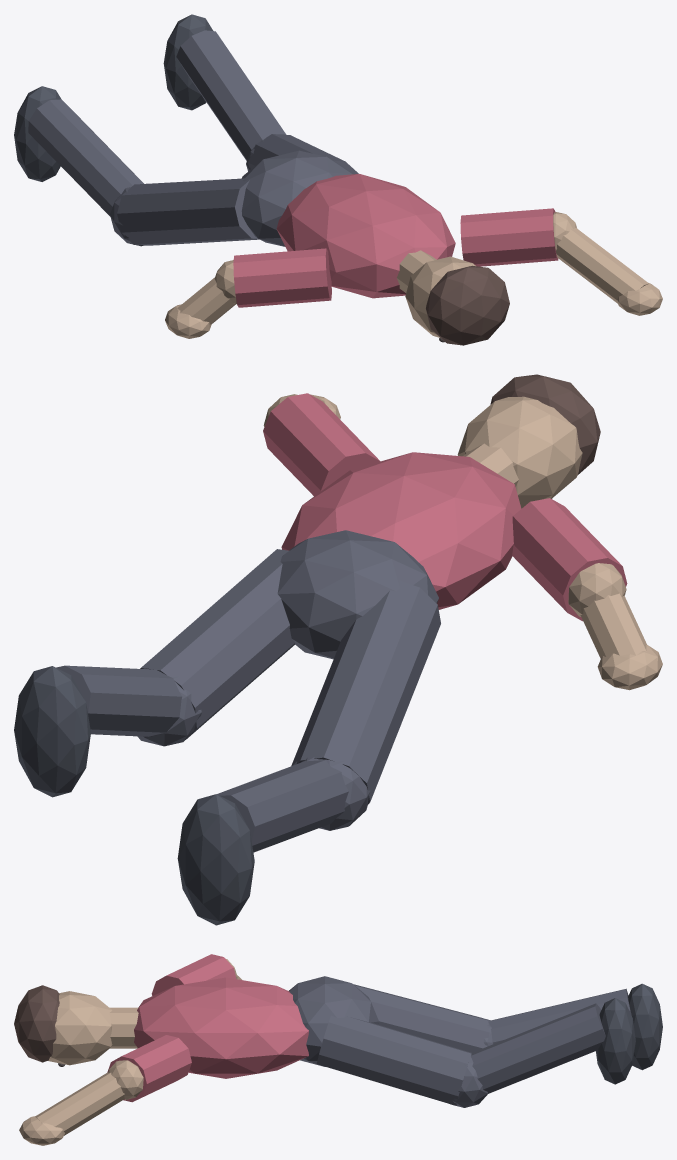
3 renders of one model, top to bottom at view 1: azimuth 30°, elevation 25°; view 2: azimuth 150°, elevation 25°; view 3: azimuth 270°, elevation 25°, orthographic. The views are drawn at different scales.
Parts seen in each view (by area): view 1: world; view 2: world; view 3: world.
Part boxes in pixels (bbox=[...]): world: bbox=[14, 14, 662, 345]; world: bbox=[14, 374, 662, 925]; world: bbox=[14, 954, 662, 1145].
Size of the model in its own units: 1.25 by 0.4556 by 2.04.
